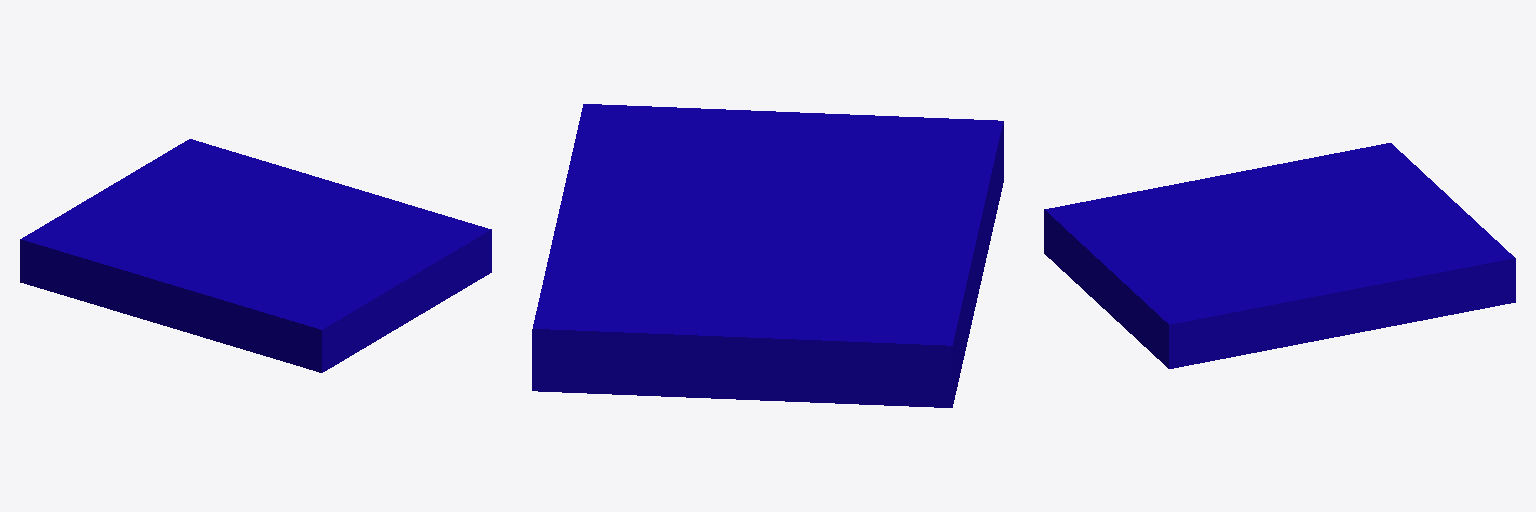
robot.urdf — Interference:
<?xml version="1.0"?>
<robot name="Interference">
  <link name="baseLink">
    <inertial>
      <origin xyz="0.0 0.0 0.0" rpy="0.0 0.0 0.0"/>
      <inertia ixx="0.0" ixy="0.0" ixz="0.0" iyy="0.0" iyz="0.0" izz="0.0"/>
      <mass value="0"/>
    </inertial>
    <visual>
      <origin xyz="0.0 0.0 0.0" rpy="0.0 0.0 0.4282629447084334"/>
      <geometry>
        <box size="0.06120649238790094 0.07758889196094962 0.01"/>
      </geometry>
      <material name="color">
        <color rgba="0.10622966803790534 0.03492215737322113 0.7066447896230329 1.0"/>
      </material>
    </visual>
  </link>
</robot>

--- What the picture shows (computed from the rendered views, not written in the file) ---
Views: 3 orthographic renders of the robot side by side, from view 1: azimuth 30°, elevation 25°; view 2: azimuth 150°, elevation 25°; view 3: azimuth 270°, elevation 25°.
Model Interference with 1 links and 0 joints (none), rooted at baseLink, posed every joint at zero.
Links seen in each view (by area): view 1: baseLink; view 2: baseLink; view 3: baseLink.
Boxes of the visible links, x1,y1,x2,y2 form: baseLink: [20, 139, 491, 372]; baseLink: [532, 104, 1003, 407]; baseLink: [1044, 143, 1515, 368].
Bounding box of the posed robot: 0.0879 × 0.096 × 0.01 m (x, y, z).
Geometry: primitives only (box / cylinder / sphere), no mesh files.